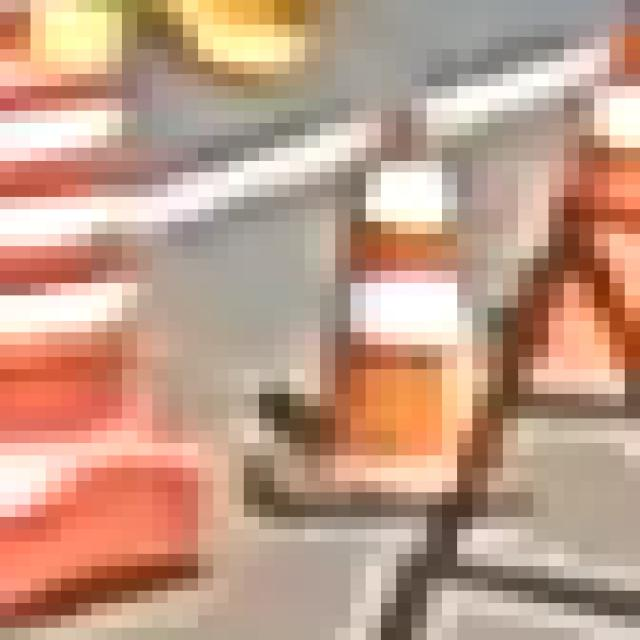small_cone: (246, 119, 568, 549)
